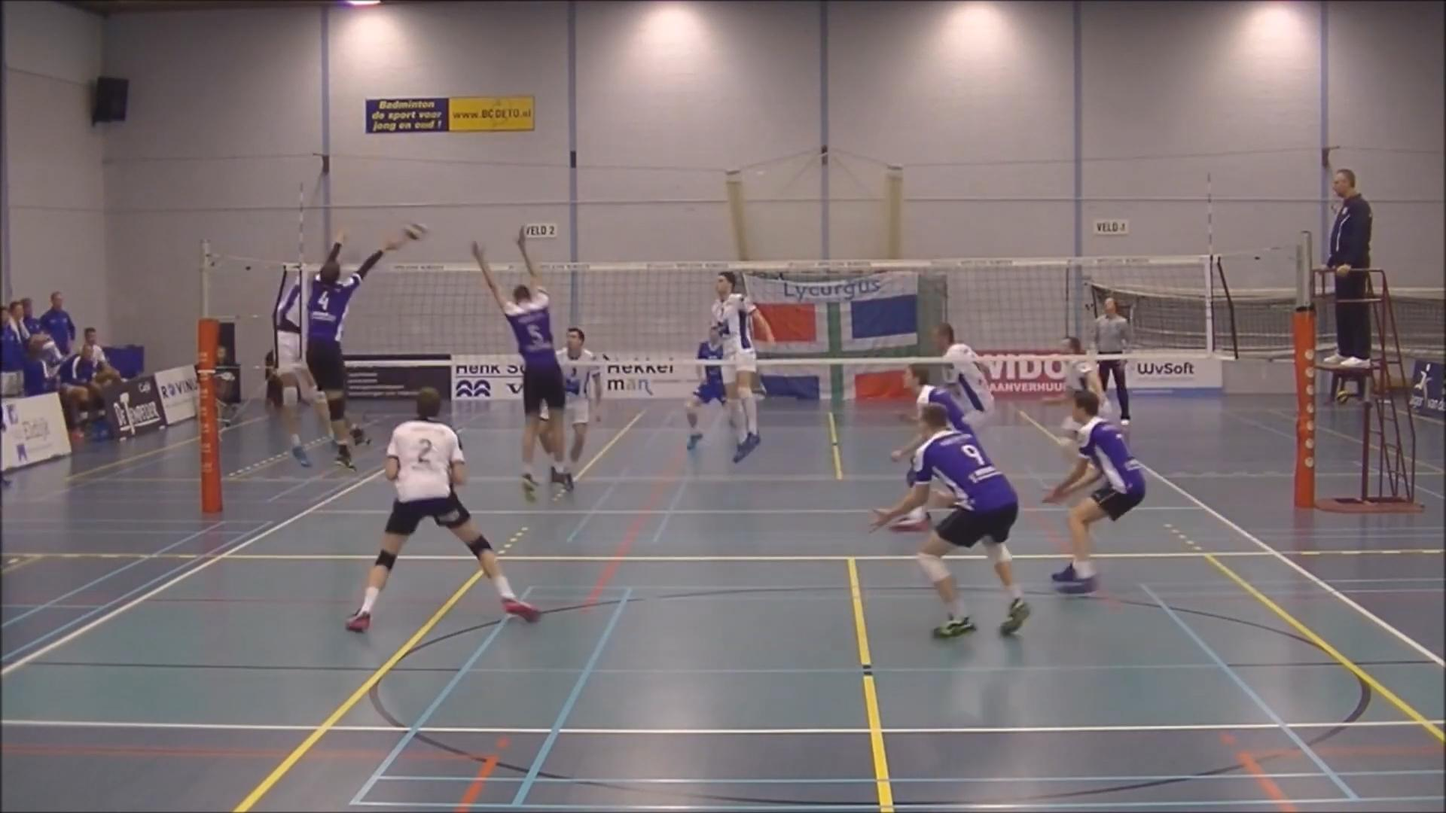attacco: (256, 232, 327, 477)
muro: (456, 230, 580, 503), (283, 232, 401, 466)
